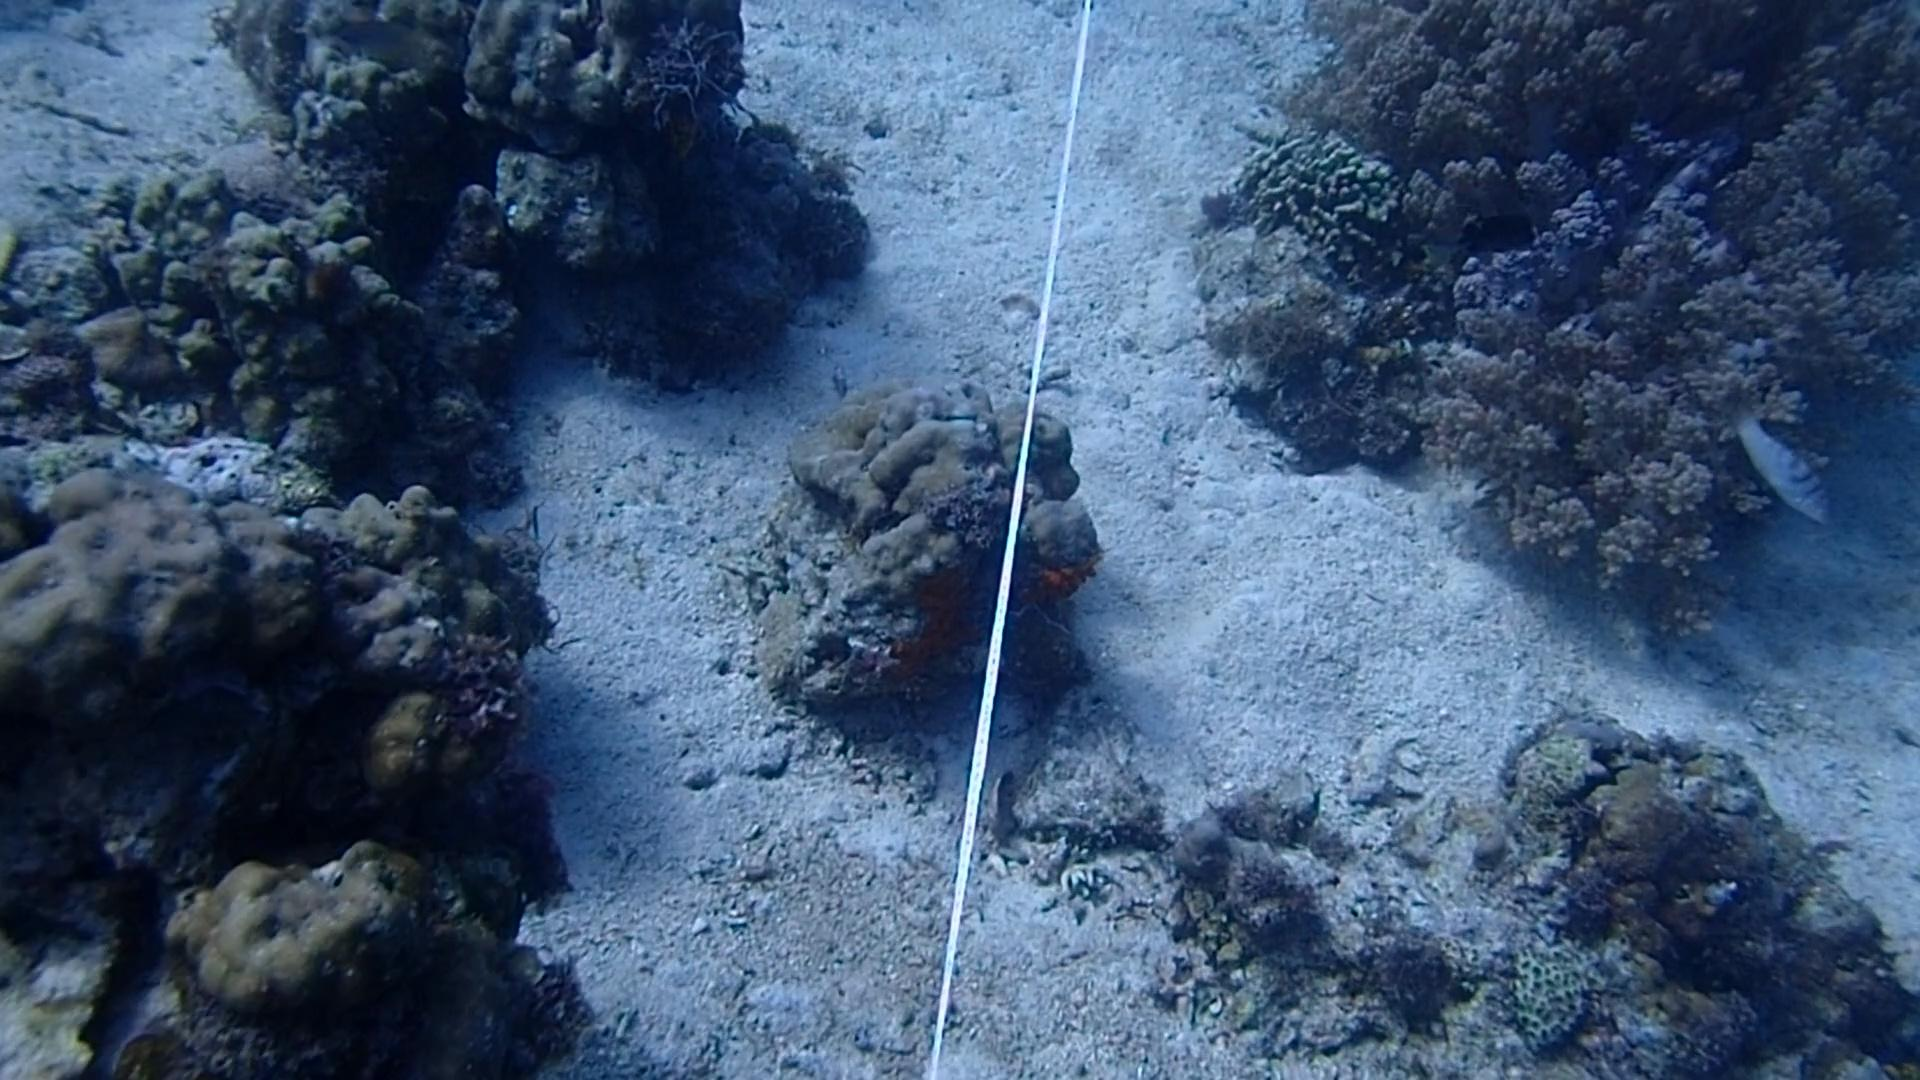Dark Fish: (1455, 204, 1538, 273)
Light Fish w Back Stripes: (1722, 402, 1847, 534)
